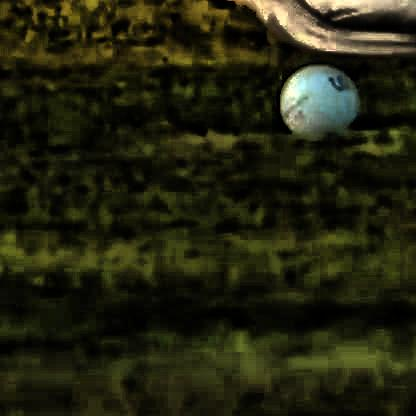golfball: (273, 61, 355, 138)
